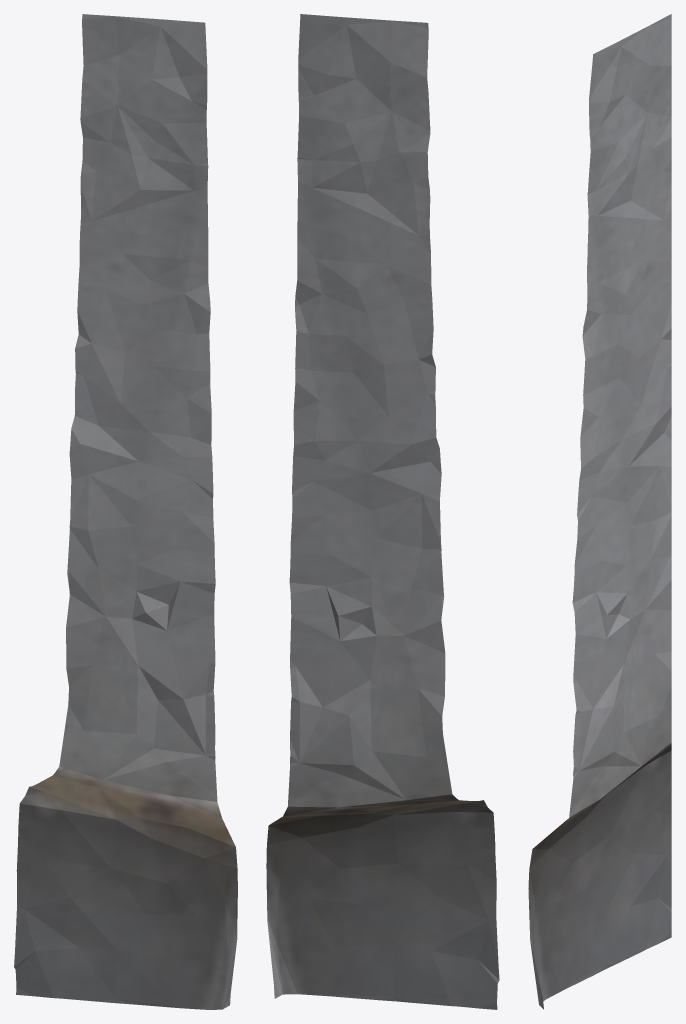
3 views of the same model, side by side, from view 1: azimuth 30°, elevation 25°; view 2: azimuth 210°, elevation 25°; view 3: azimuth 270°, elevation 25° (orthographic). The views are drawn at different scales.
Bounding box in the file's own units: 0.1379 × 0.8374 × 0.1136.
1 material, 1 textured.
